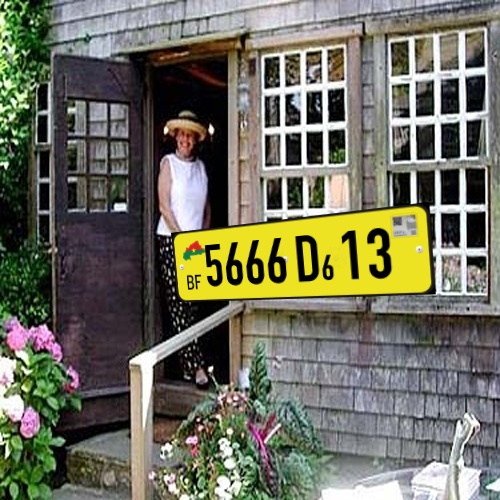plate: (171, 194, 448, 315)
